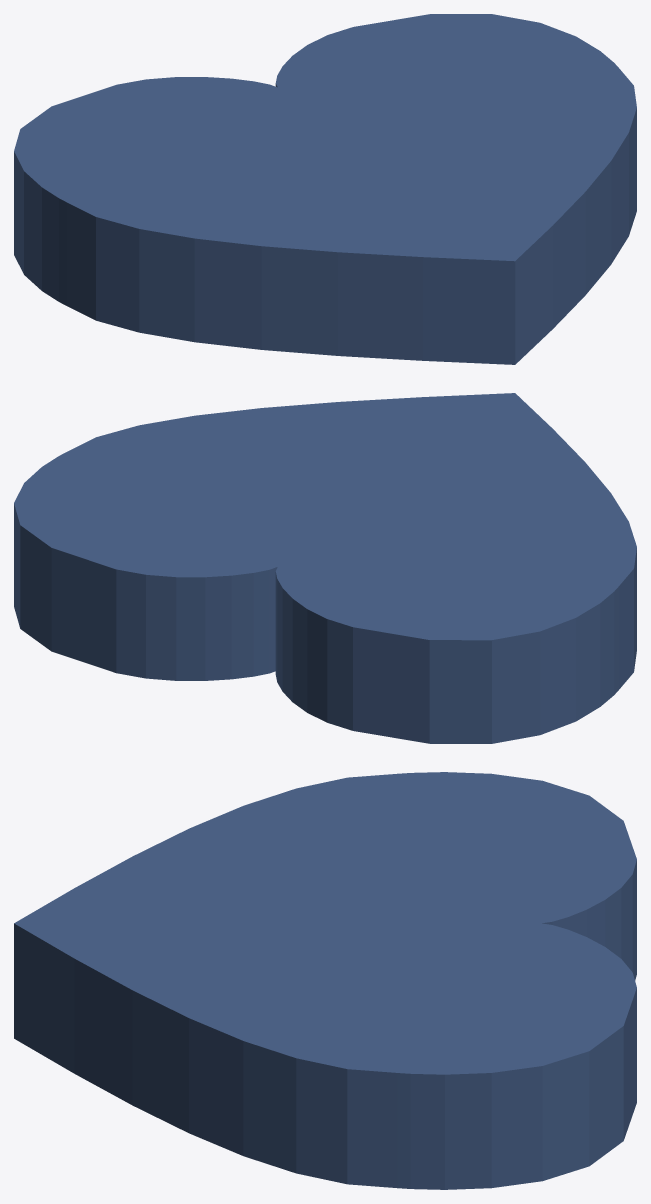
The model's file is asset.glb.
3 views of the same model, one above another, from view 1: azimuth 30°, elevation 25°; view 2: azimuth 150°, elevation 25°; view 3: azimuth 270°, elevation 25° (orthographic). The views are drawn at different scales.
Visible parts, largest first — view 1: Mesh_Mesh_head_geo.001_lambert2SG.001; view 2: Mesh_Mesh_head_geo.001_lambert2SG.001; view 3: Mesh_Mesh_head_geo.001_lambert2SG.001.
Part boxes in pixels (x1,y1,x2,y2): Mesh_Mesh_head_geo.001_lambert2SG.001: (14, 14, 636, 364); Mesh_Mesh_head_geo.001_lambert2SG.001: (14, 393, 636, 743); Mesh_Mesh_head_geo.001_lambert2SG.001: (14, 772, 636, 1189).
Size of the model in its own units: 56.33 by 10 by 49.
